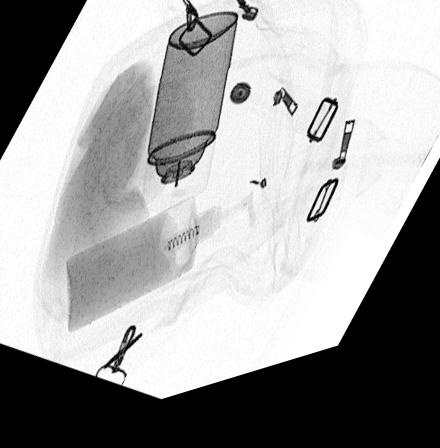Sprayer: (139, 25, 238, 220)
